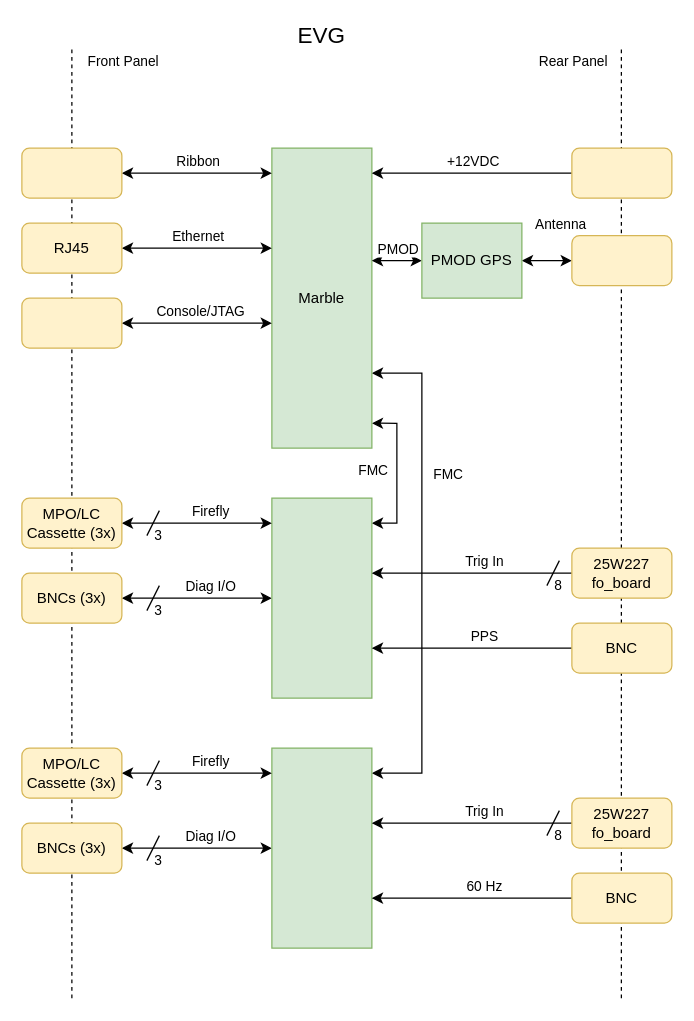
Image size: 694x1021. Some labels were removed from this diagram. The shapes that lost their labels are listed below. From the top down, each one's centre as x and y in pixels, then its label:
At (71,172): "HSDFP".
At (621,172): "RPB".
At (621,260): "Iso. SMA".
At (71,322): "USB".
At (321,597): "EVIO1".
At (321,847): "EVIO2".
